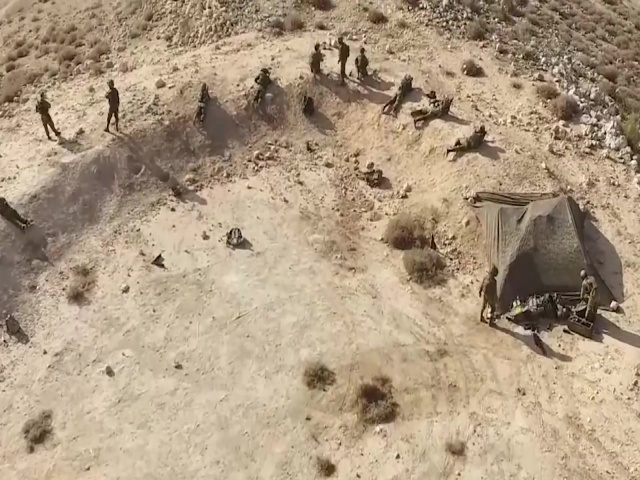person: (408, 92, 453, 126), (446, 124, 489, 157), (1, 197, 38, 235), (33, 92, 61, 142), (479, 266, 499, 329), (383, 74, 413, 116), (101, 79, 123, 135), (580, 271, 600, 326), (334, 35, 350, 87), (254, 65, 273, 107), (192, 81, 210, 125), (354, 45, 371, 81), (308, 41, 324, 79)
